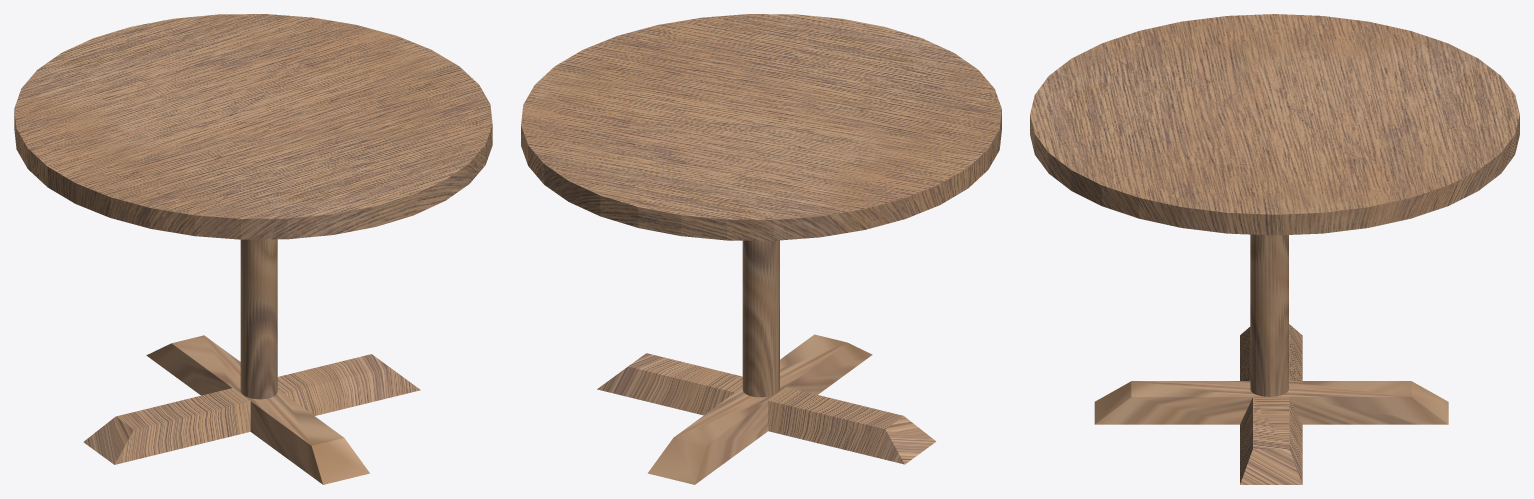
File: table.fbx
The picture shows the model from 3 angles, left to right: view 1: azimuth 30°, elevation 25°; view 2: azimuth 150°, elevation 25°; view 3: azimuth 270°, elevation 25°; orthographic projection.
Visible parts, largest first — view 1: Cube; view 2: Cube; view 3: Cube.
Part boxes in pixels (x1,y1,x2,y2): Cube: (14,14,492,484); Cube: (521,14,1001,484); Cube: (1030,14,1519,484).
Size of the model in its own units: 268 by 185 by 277.
